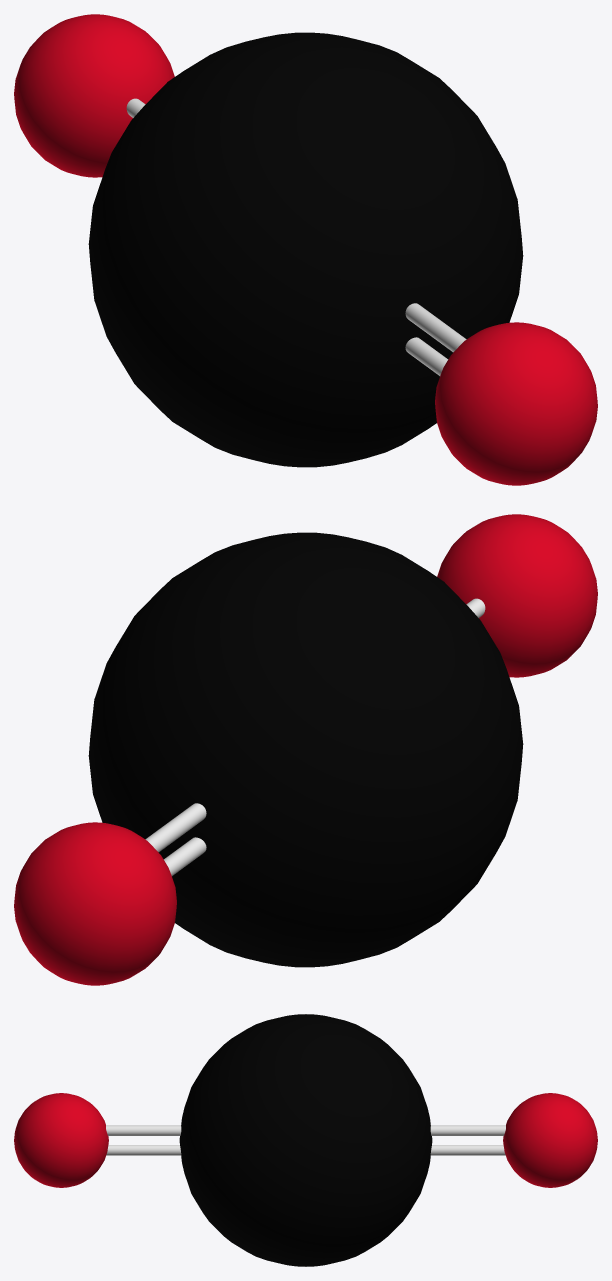
Rendered from m_ugljendioksid.gltf.
3 views of the same model, one above another, from view 1: azimuth 30°, elevation 25°; view 2: azimuth 150°, elevation 25°; view 3: azimuth 270°, elevation 25° (orthographic). The views are drawn at different scales.
Parts seen in each view (by area): view 1: Sphere.004; view 2: Sphere.004; view 3: Sphere.004.
Boxes of the visible parts, left/top/right/bottom form: Sphere.004: left=14, top=14, right=597, bottom=485; Sphere.004: left=14, top=514, right=597, bottom=985; Sphere.004: left=14, top=1014, right=597, bottom=1266.
Bounding box in the file's own units: 1.41 × 1.41 × 3.26.
